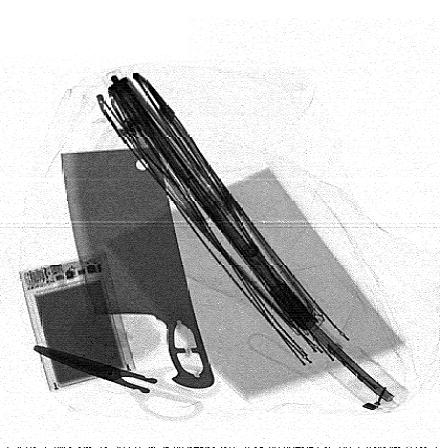Knife: (56, 145, 215, 389)
Powerbank: (16, 250, 138, 395)
Scissors: (33, 343, 221, 422)
